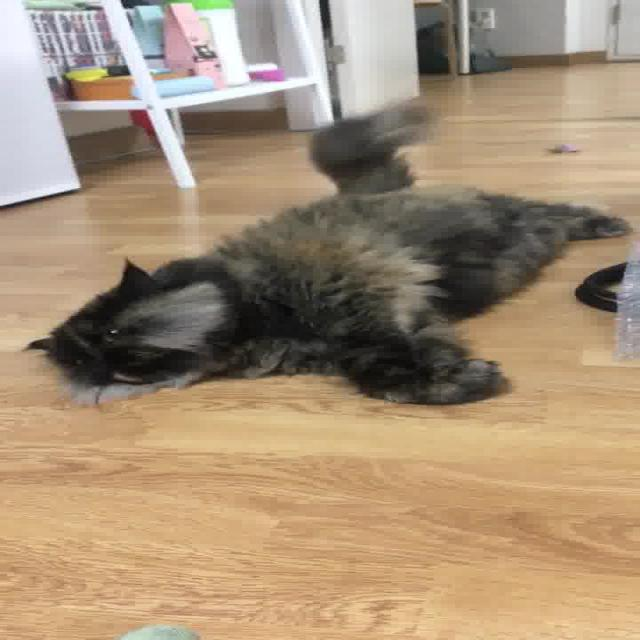cat: (21, 85, 637, 409)
